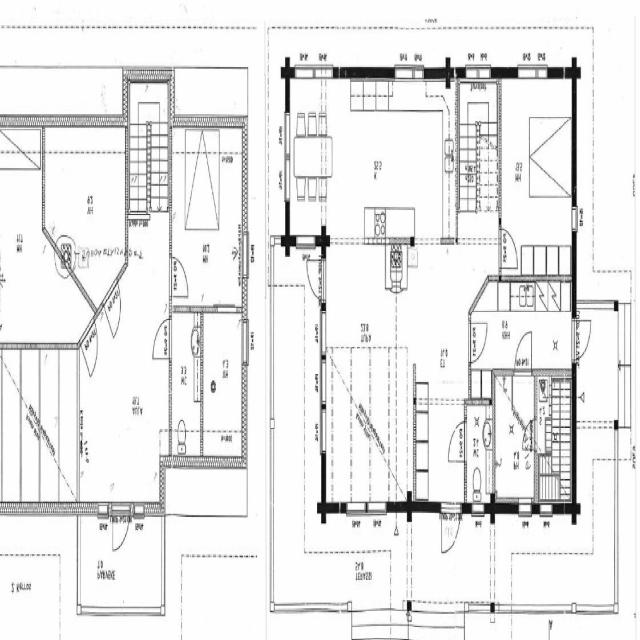door: (79, 316, 105, 378), (102, 278, 128, 338), (442, 502, 461, 558), (112, 503, 130, 554), (514, 328, 532, 376), (305, 260, 326, 300), (572, 320, 593, 360), (169, 256, 189, 296), (448, 422, 467, 462), (499, 229, 518, 269), (469, 323, 488, 362), (153, 319, 172, 358), (521, 420, 537, 451)
